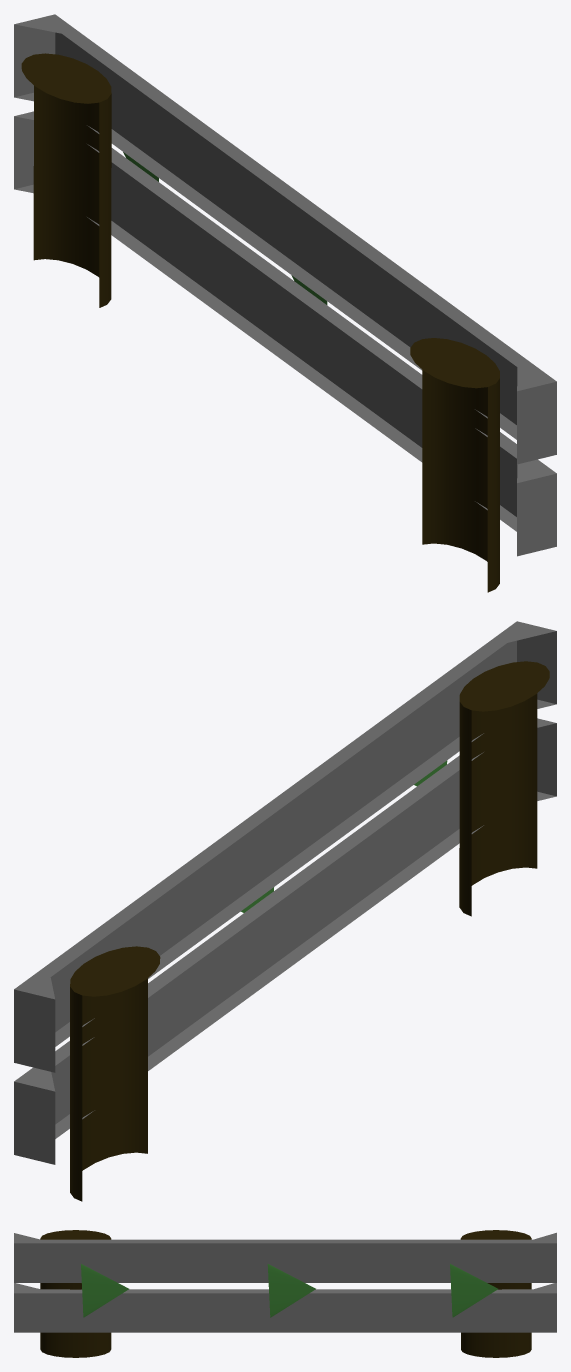
The model's file is QuitaMiedos.fbx.
3 renders of one model, top to bottom at view 1: azimuth 30°, elevation 25°; view 2: azimuth 150°, elevation 25°; view 3: azimuth 270°, elevation 25°, orthographic. The views are drawn at different scales.
Parts seen in each view (by area): view 1: pCube1, pasted__pCube1, pasted__pCylinder1, pasted__pasted__pCylinder1; view 2: pCube1, pasted__pCube1, pasted__pasted__pCylinder1, pasted__pCylinder1; view 3: pCube1, pasted__pCube1, pasted__pasted__pCylinder1, pasted__pCylinder1, pCone1, pasted__pCone1, pasted__pasted__pCone1.
Boxes of the visible parts, box(x1,y1,x2,y2) form: pCube1: box(14, 14, 556, 464); pasted__pCube1: box(14, 111, 556, 556); pasted__pCylinder1: box(21, 53, 111, 307); pasted__pasted__pCylinder1: box(410, 338, 499, 592); pCube1: box(14, 621, 556, 1072); pasted__pCube1: box(14, 718, 556, 1164); pasted__pasted__pCylinder1: box(459, 661, 549, 916); pasted__pCylinder1: box(70, 946, 160, 1201); pCube1: box(14, 1232, 556, 1282); pasted__pCube1: box(14, 1283, 556, 1332); pasted__pasted__pCylinder1: box(40, 1230, 111, 1357); pasted__pCylinder1: box(460, 1230, 531, 1357); pCone1: box(450, 1264, 497, 1317); pasted__pCone1: box(267, 1264, 315, 1317); pasted__pasted__pCone1: box(81, 1264, 128, 1317).
Bounding box in the file's own units: 0.2457 × 0.6187 × 2.58.
